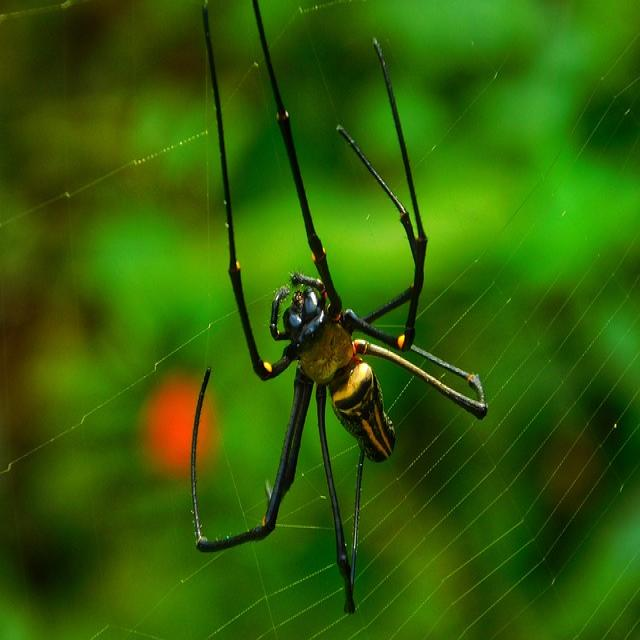spyder: (189, 0, 488, 617)
